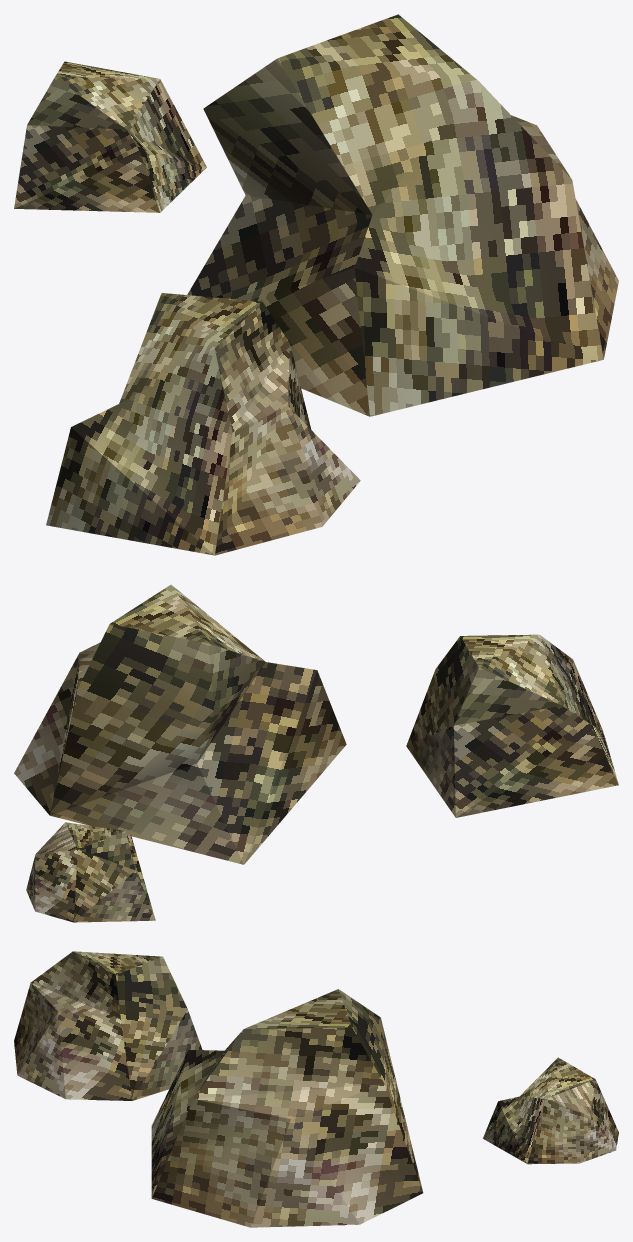
The model's file is Environment - Prop - Boulders - PMBoulders.glb.
3 views of the same model, one above another, from view 1: azimuth 30°, elevation 25°; view 2: azimuth 150°, elevation 25°; view 3: azimuth 270°, elevation 25° (orthographic). The views are drawn at different scales.
Visible parts, largest first — view 1: PMBOULDERS; view 2: PMBOULDERS; view 3: PMBOULDERS.
Boxes of the visible parts, x1,y1,x2,y2 form: PMBOULDERS: (14, 14, 618, 555); PMBOULDERS: (14, 584, 618, 922); PMBOULDERS: (14, 951, 618, 1227).
Size of the model in its own units: 27.54 by 10.79 by 32.89.
Materials: 1 (1 with a texture image).
